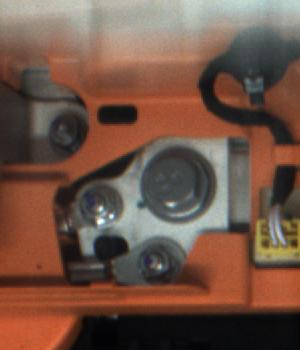nut_b: (133, 144, 224, 227)
